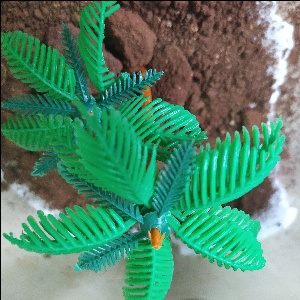plant: (1, 24, 263, 287)
